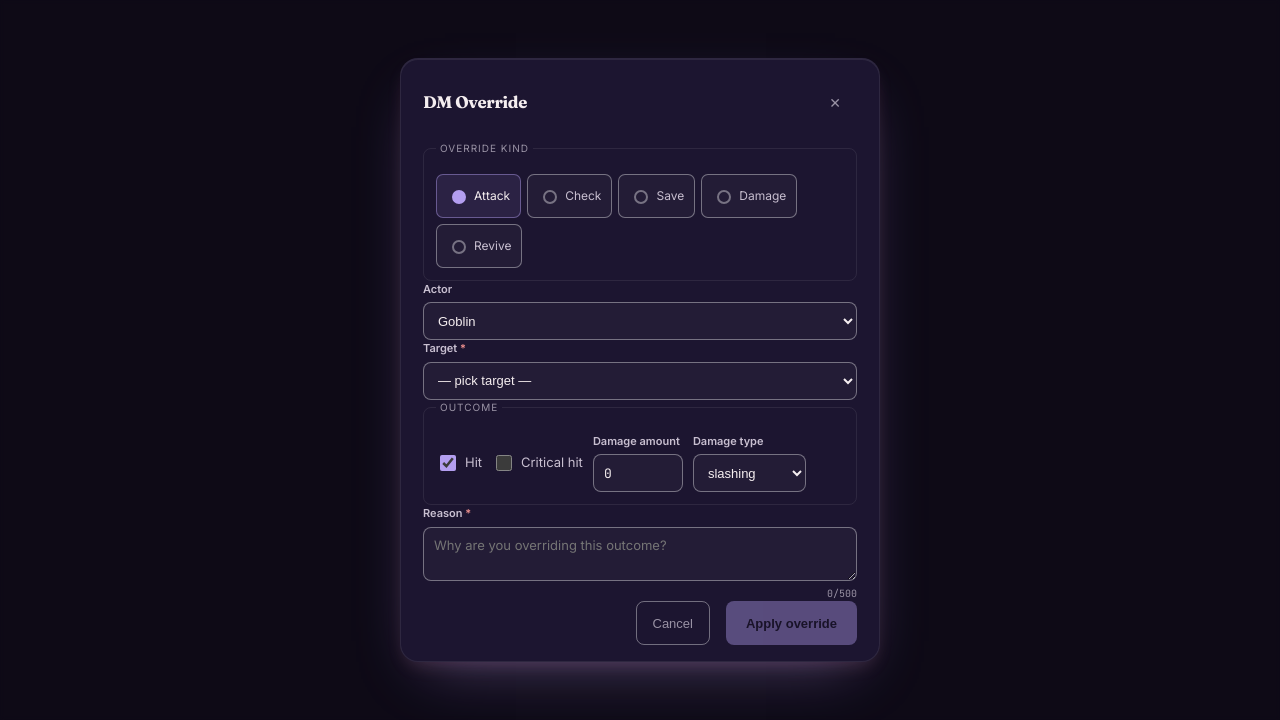
Test: HP field › quick buttons set 1 / Half (rounded up) / Full without sending
The image size is (1280, 720).
Click the radio button labelled "Revive" at {"x": 459, "y": 247}, box [452, 240, 466, 254]
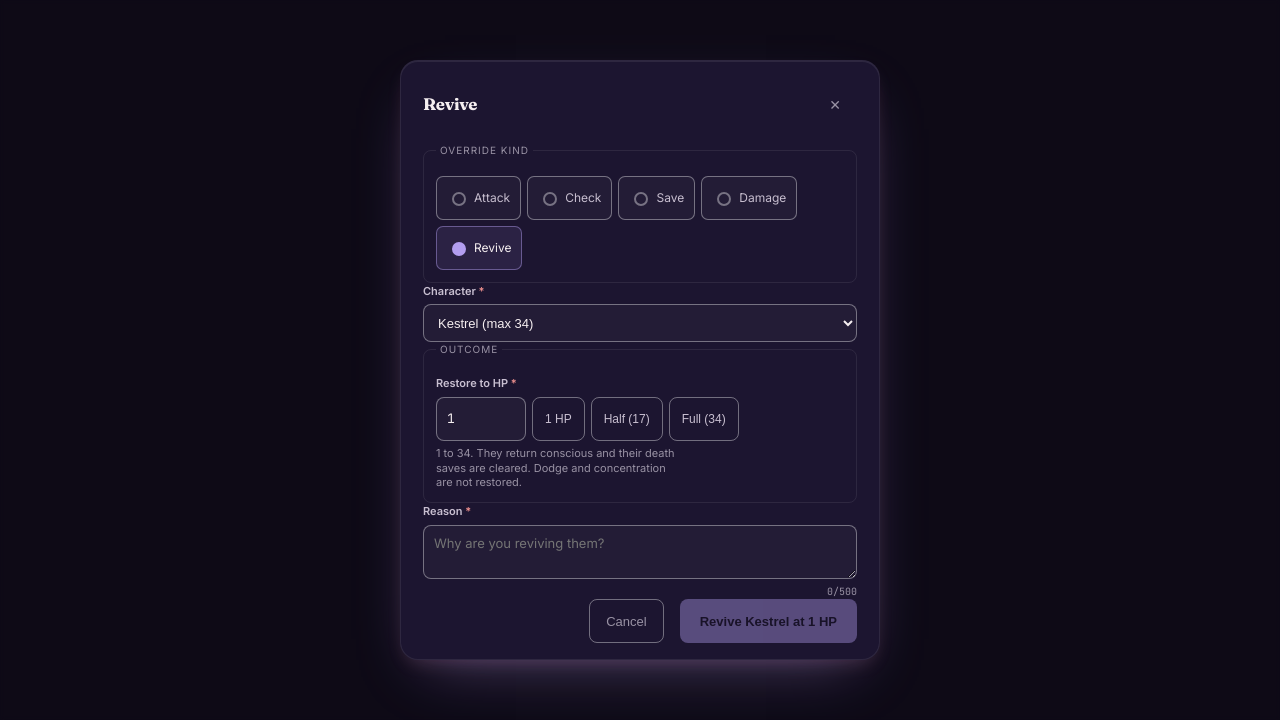
Click the button with aria-label "Set to full, 34 HP" at {"x": 704, "y": 419}, box [669, 397, 739, 441]
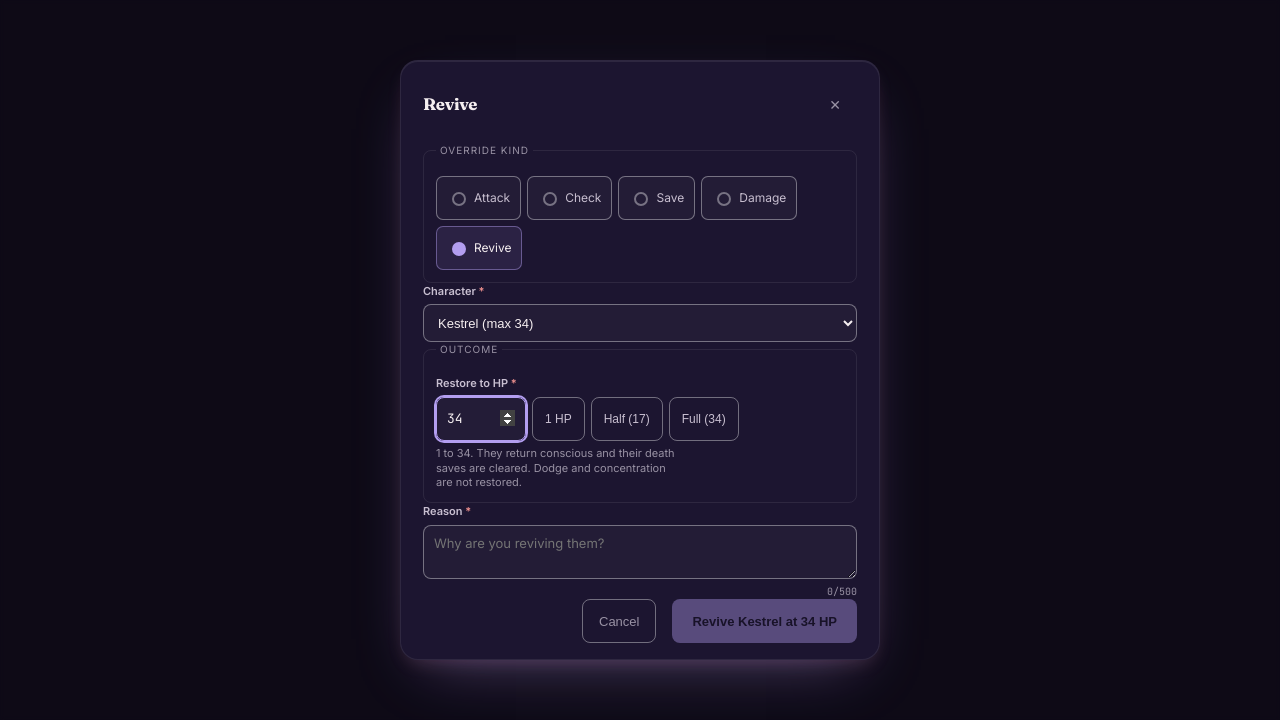
Expected: the number field labelled "Restore to HP *" holds "34", [436, 397, 526, 441]
Click the button with aria-label "Set to half, 17 HP" at {"x": 627, "y": 419}, box [591, 397, 663, 441]
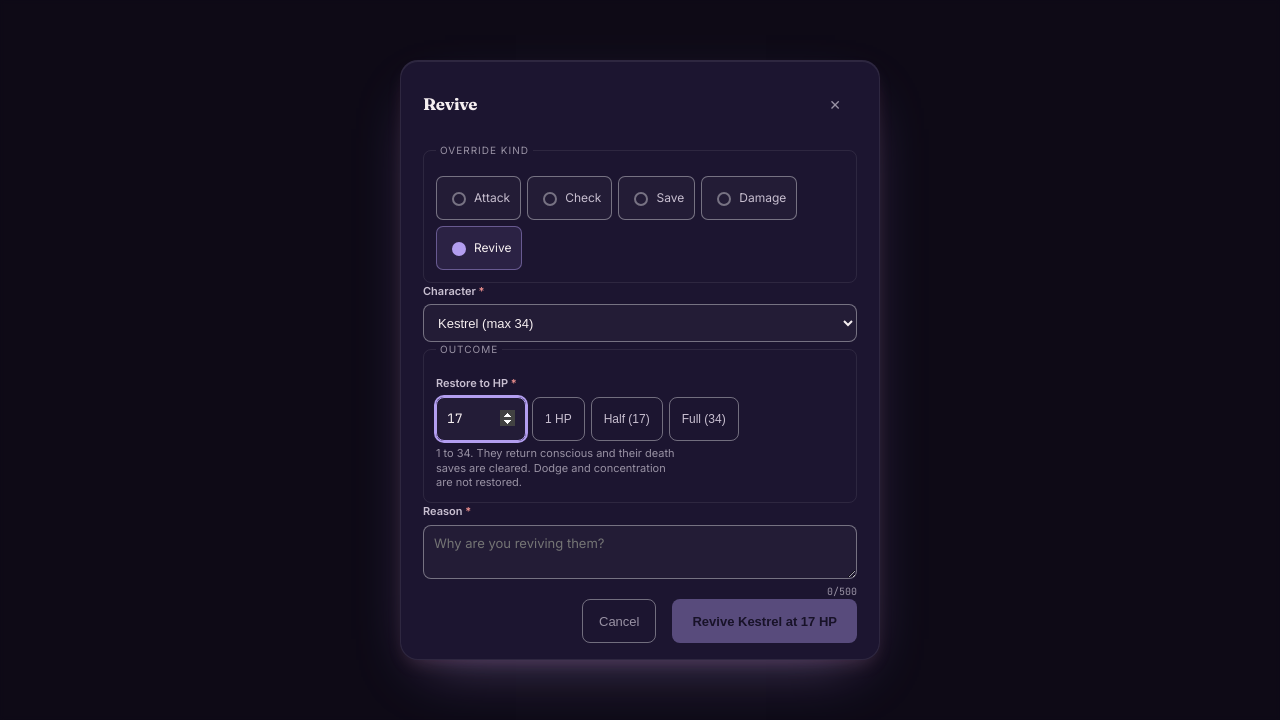
Expected: the number field labelled "Restore to HP *" holds "17", [436, 397, 526, 441]
Click the button with aria-label "Set to 1 HP" at {"x": 558, "y": 419}, box [532, 397, 585, 441]
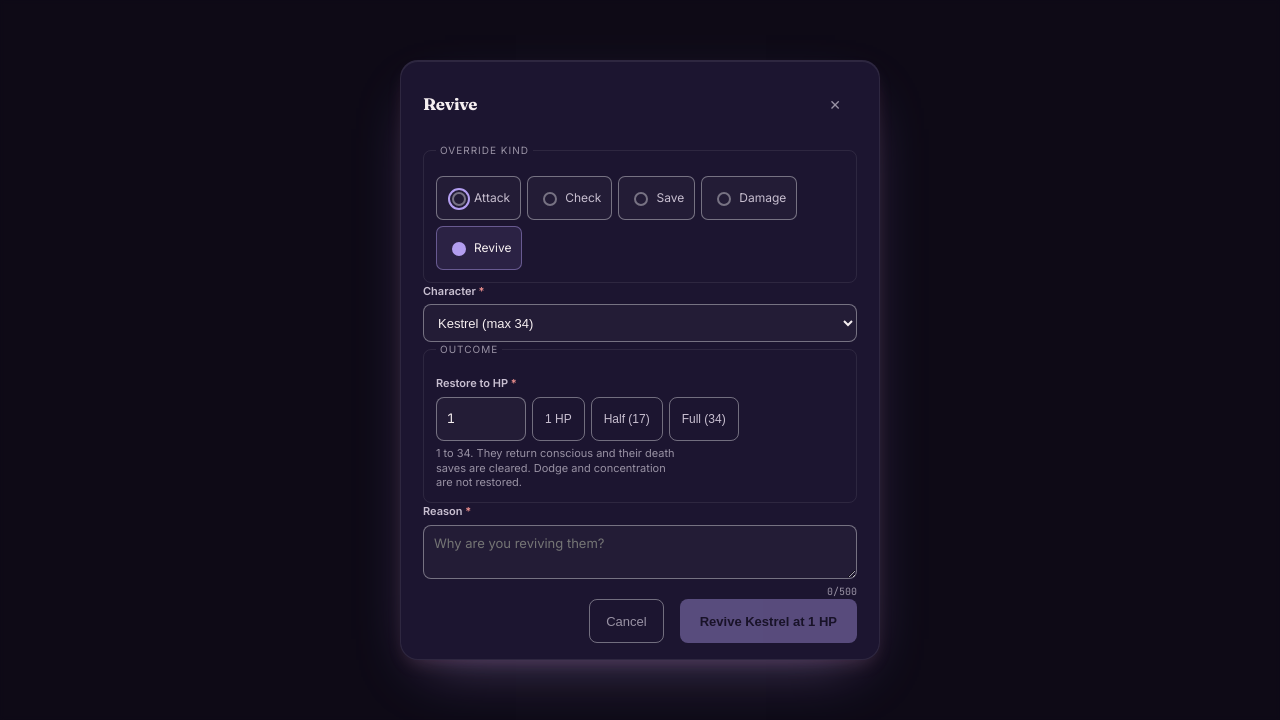
Expected: the number field labelled "Restore to HP *" holds "1", [436, 397, 526, 441]
